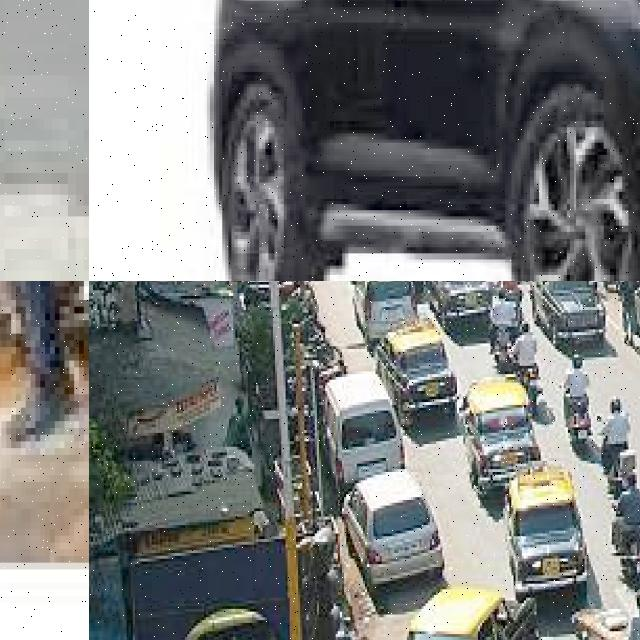bike: (0, 281, 89, 367), (607, 494, 640, 597), (554, 382, 602, 452)
car: (89, 0, 640, 281)
